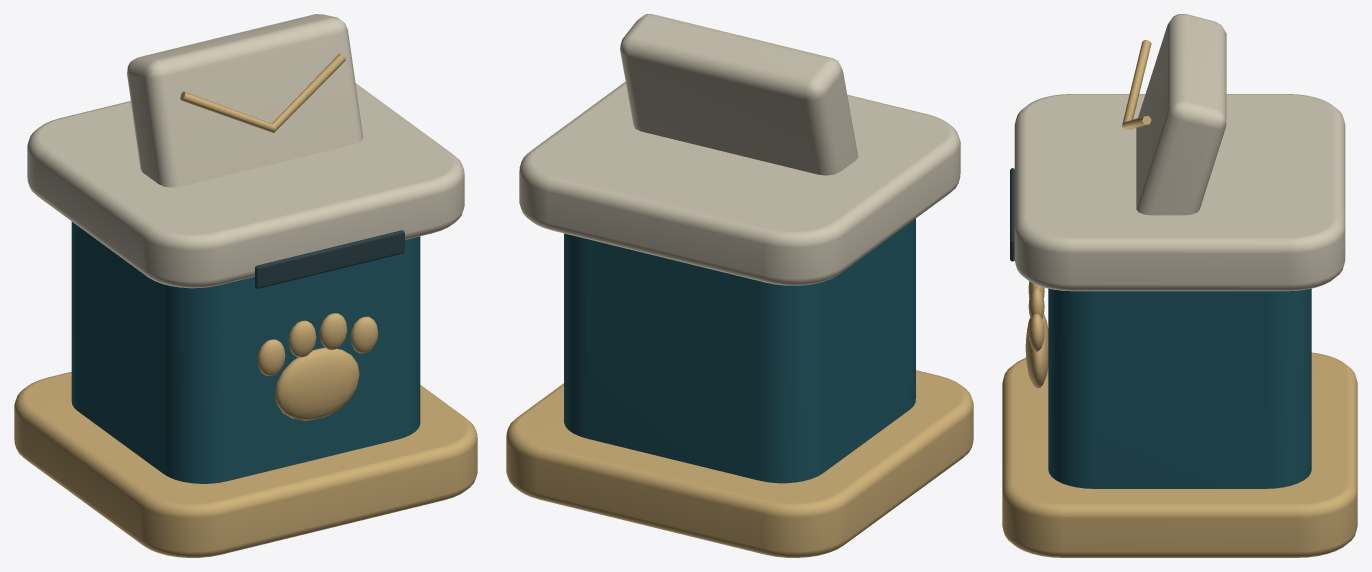
Rendered from echo_mailbox_atelier.glb.
3 renders of one model, left to right at view 1: azimuth 30°, elevation 25°; view 2: azimuth 150°, elevation 25°; view 3: azimuth 270°, elevation 25°, orthographic.
Visible parts, largest first — view 1: echo_mailbox_atelier__Painted_echo_mailbox_atelier_Glaze, echo_mailbox_atelier__Painted_echo_mailbox_atelier_Metal, echo_mailbox_atelier__TaggedPainted_echo_mailbox_atelier_Mat; view 2: echo_mailbox_atelier__Painted_echo_mailbox_atelier_Glaze, echo_mailbox_atelier__Painted_echo_mailbox_atelier_Metal; view 3: echo_mailbox_atelier__Painted_echo_mailbox_atelier_Glaze, echo_mailbox_atelier__Painted_echo_mailbox_atelier_Metal, echo_mailbox_atelier__TaggedPainted_echo_mailbox_atelier_Mat.
Boxes of the visible parts, x1,y1,x2,y2 form: echo_mailbox_atelier__Painted_echo_mailbox_atelier_Glaze: [27, 14, 464, 483]; echo_mailbox_atelier__Painted_echo_mailbox_atelier_Metal: [14, 53, 477, 557]; echo_mailbox_atelier__TaggedPainted_echo_mailbox_atelier_Mat: [255, 230, 404, 288]; echo_mailbox_atelier__Painted_echo_mailbox_atelier_Glaze: [519, 14, 960, 483]; echo_mailbox_atelier__Painted_echo_mailbox_atelier_Metal: [506, 370, 973, 557]; echo_mailbox_atelier__Painted_echo_mailbox_atelier_Glaze: [1014, 14, 1345, 488]; echo_mailbox_atelier__Painted_echo_mailbox_atelier_Metal: [1002, 40, 1357, 557]; echo_mailbox_atelier__TaggedPainted_echo_mailbox_atelier_Mat: [1010, 168, 1014, 261].
Size of the model in its own units: 0.62 by 0.7623 by 0.58.
